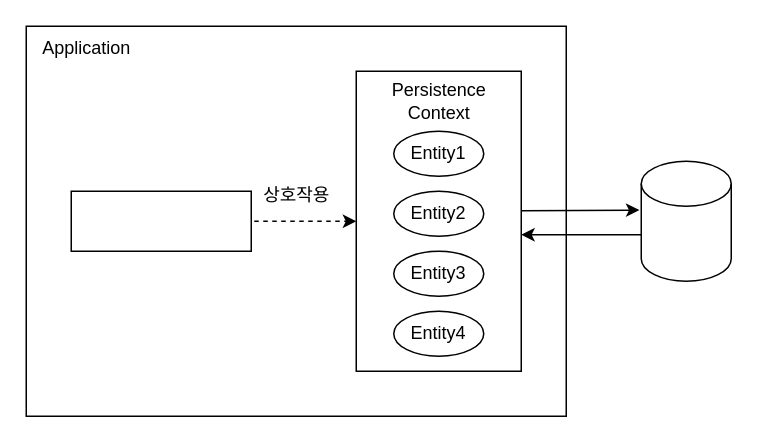
Some shapes in this 758 by 443 pixel diagram are drawn without their labels. The centre of each missing label's shape, as x and y in pixels:
"DB" goes at (x=685, y=220).
"≪ interface≫ EntityManager" goes at (x=160, y=220).
